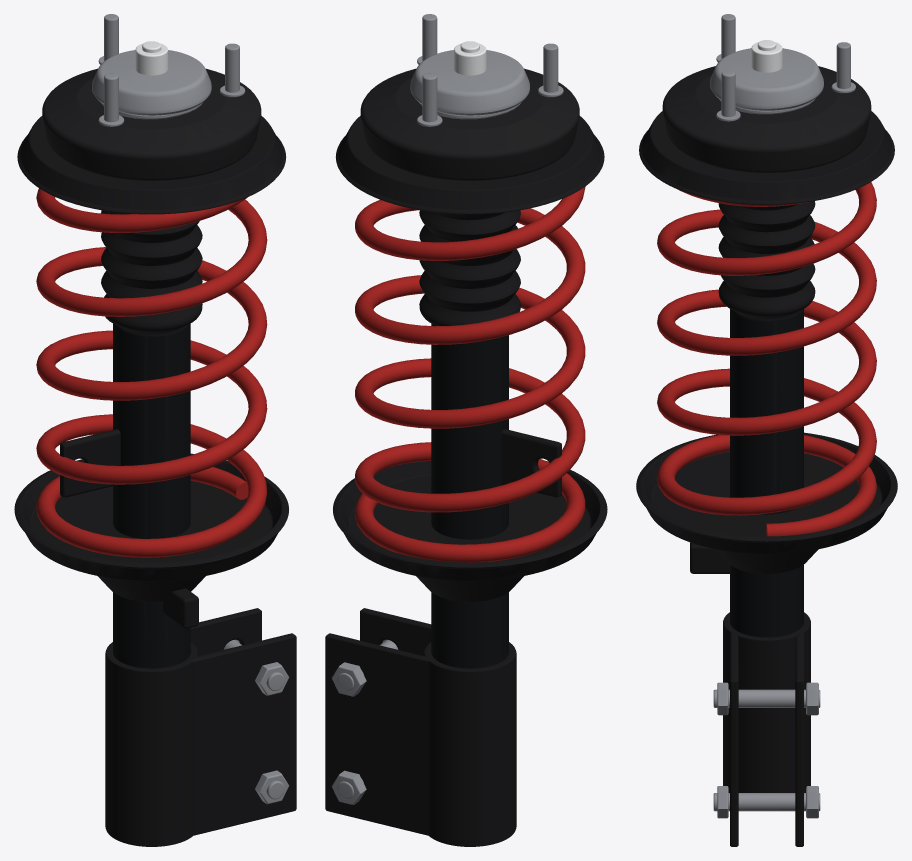
The model's file is sasi-amortisor.glb.
The picture shows the model from 3 angles, left to right: view 1: azimuth 30°, elevation 25°; view 2: azimuth 150°, elevation 25°; view 3: azimuth 270°, elevation 25°; orthographic projection. The views are drawn at different scales.
Visible parts, largest first — view 1: govde, ust-takoz, yay, koruk, mil; view 2: govde, ust-takoz, yay, koruk, mil; view 3: govde, ust-takoz, yay, koruk, mil.
Boxes of the visible parts, x1,y1,x2,y2 form: govde: (14, 323, 296, 846); ust-takoz: (17, 14, 286, 214); yay: (36, 188, 267, 557); koruk: (101, 210, 202, 334); mil: (135, 43, 168, 75); govde: (325, 323, 607, 846); ust-takoz: (335, 14, 604, 214); yay: (355, 186, 585, 562); koruk: (419, 210, 520, 325); mil: (453, 43, 486, 75); govde: (636, 309, 897, 846); ust-takoz: (639, 14, 894, 204); yay: (657, 182, 876, 536); koruk: (718, 201, 815, 319); mil: (751, 42, 782, 72).
Bounding box in the file's own units: 0.1894 × 0.58 × 0.1838.
